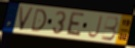3: (51, 11, 67, 36)
B: (100, 15, 119, 42)
D: (30, 8, 48, 33)
E: (64, 11, 86, 39)
J: (86, 15, 104, 40)
V: (18, 6, 35, 32)
